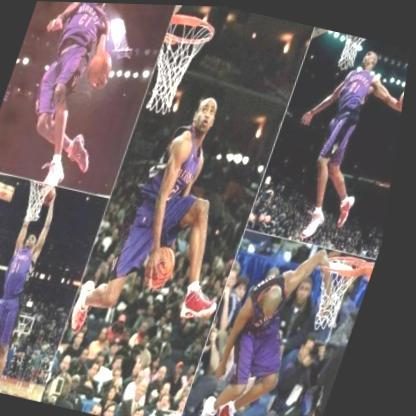basketball: (84, 49, 117, 88), (397, 83, 407, 111)
rim: (142, 11, 219, 118), (312, 246, 381, 332)
